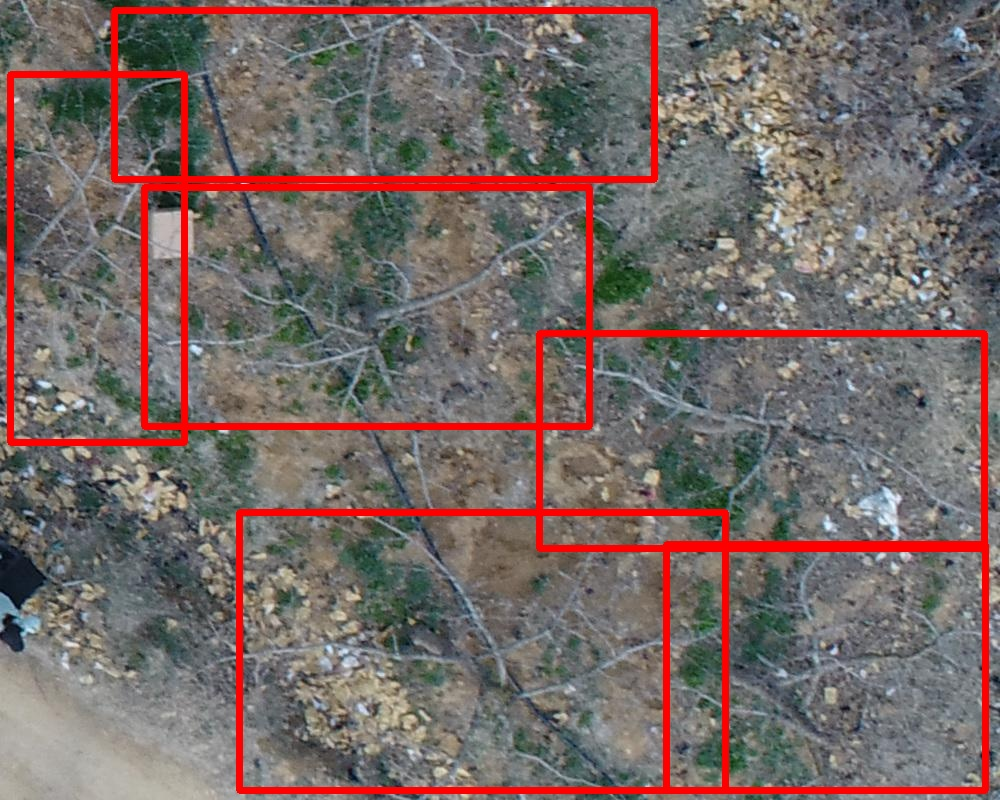apple: (239, 512, 725, 790), (144, 187, 589, 426), (539, 333, 984, 548), (114, 10, 654, 179), (666, 544, 985, 790), (10, 74, 184, 442)
